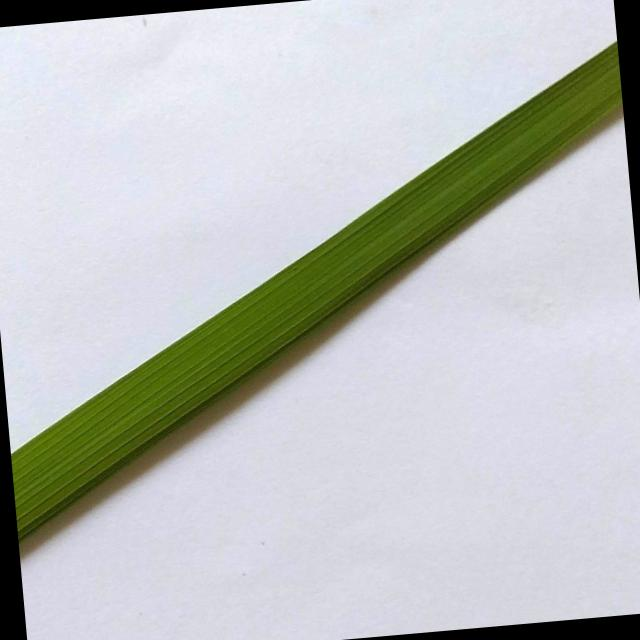Rice_Healthy: (11, 41, 622, 539)
